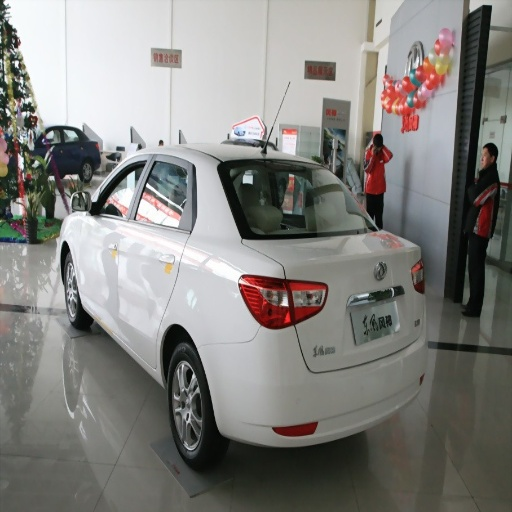back_bumper: (200, 320, 432, 449)
back_glass: (218, 160, 376, 238)
back_left_door: (118, 157, 190, 360)
tailgate: (273, 231, 420, 364)
trunk: (276, 242, 327, 287)
